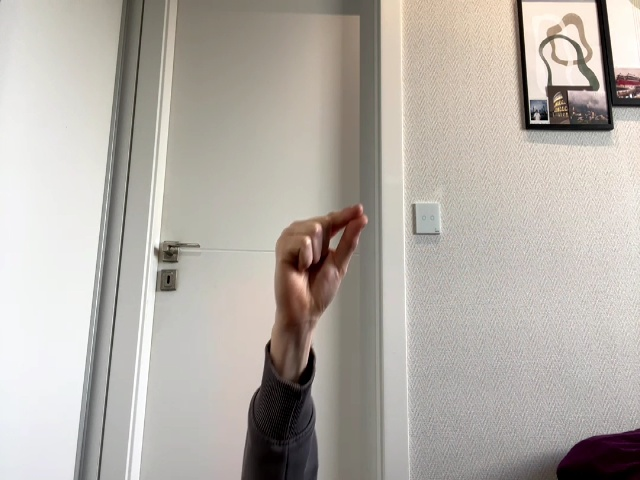P: (274, 205, 369, 323)
